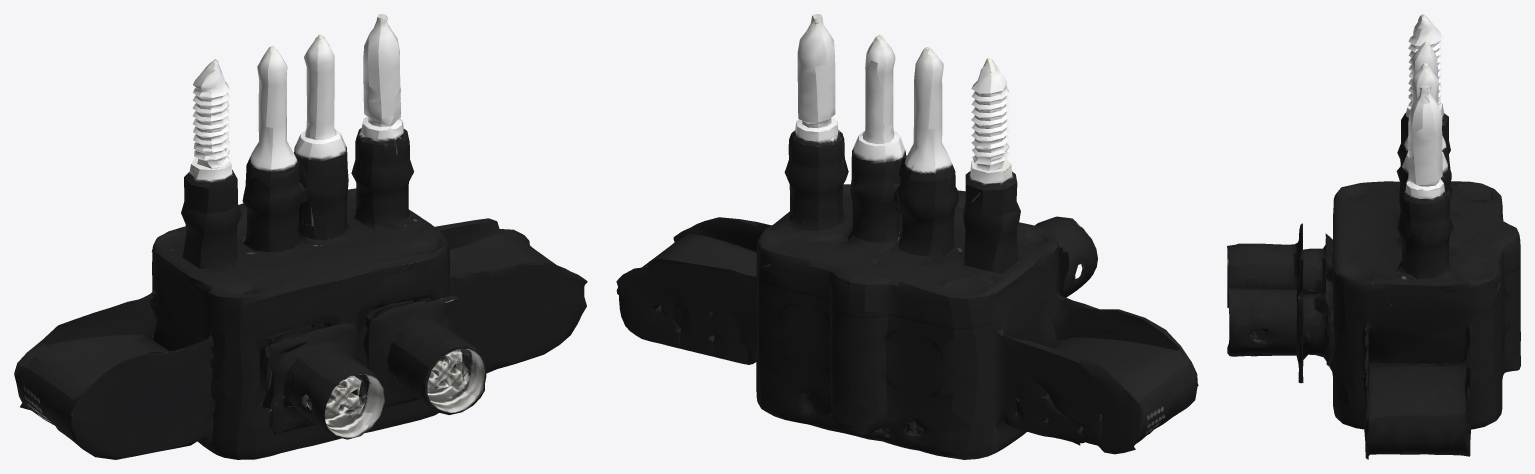
The model's file is coil-pack.glb.
3 views of the same model, side by side, from view 1: azimuth 30°, elevation 25°; view 2: azimuth 150°, elevation 25°; view 3: azimuth 270°, elevation 25° (orthographic). The views are drawn at different scales.
Size of the model in its own units: 1.89 by 1.28 by 1.03.
1 material, 1 textured.
